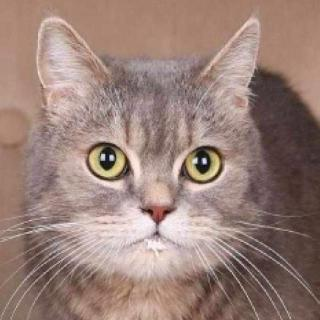cat: (17, 16, 280, 289)
nose: (131, 174, 184, 227)
